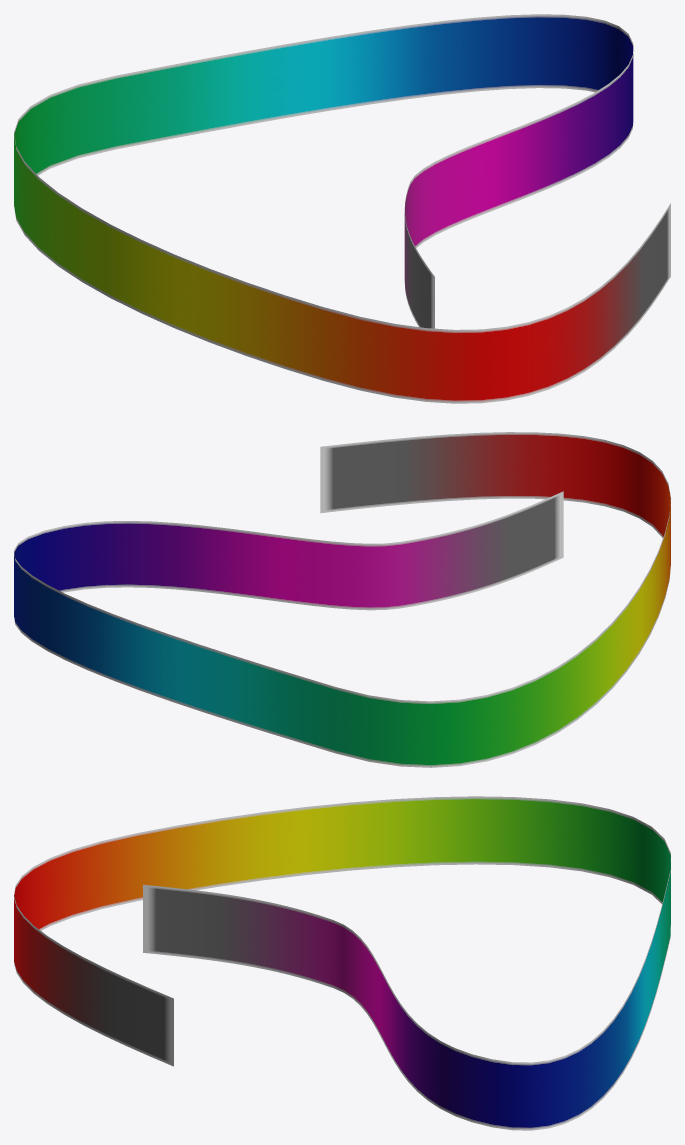
Rendered from auroraStripCurved.FBX.
3 views of the same model, one above another, from view 1: azimuth 30°, elevation 25°; view 2: azimuth 150°, elevation 25°; view 3: azimuth 270°, elevation 25° (orthographic). The views are drawn at different scales.
Visible parts, largest first — view 1: Line001; view 2: Line001; view 3: Line001.
Part boxes in pixels (bbox=[...]): Line001: bbox=[14, 14, 670, 403]; Line001: bbox=[14, 432, 670, 767]; Line001: bbox=[14, 796, 670, 1130].
Size of the model in its own units: 168 by 20 by 175.
